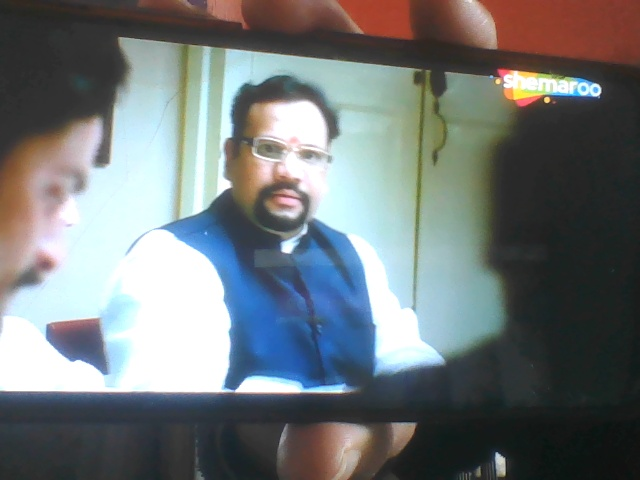fake: (223, 69, 343, 239)
